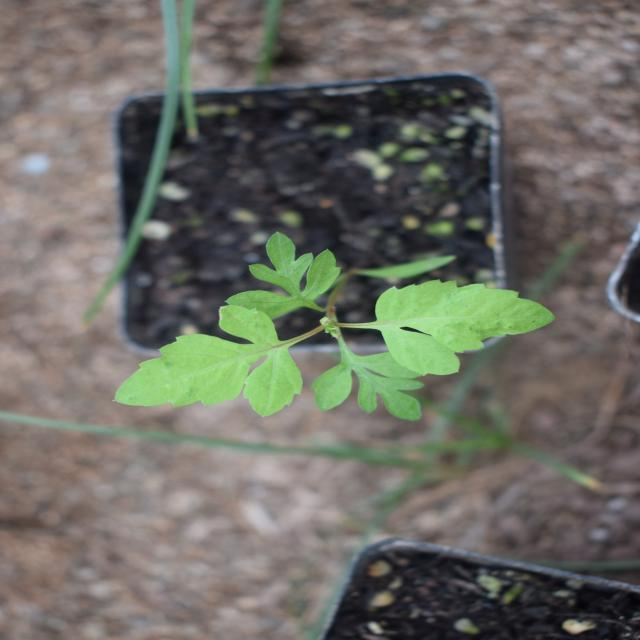Bidens pilosa: (207, 116, 406, 550)
